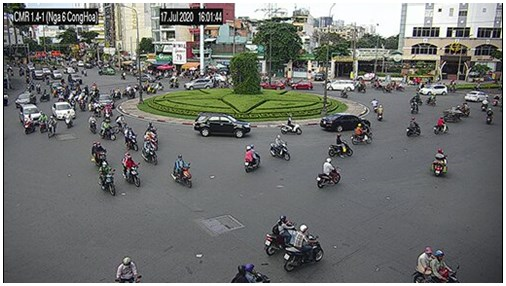xe_hoi: (194, 114, 251, 138), (319, 114, 371, 134), (19, 103, 42, 125), (52, 101, 74, 118), (325, 80, 355, 92), (417, 85, 448, 96), (183, 79, 214, 90), (16, 92, 36, 107), (465, 90, 487, 101), (99, 92, 113, 107), (291, 81, 314, 90), (68, 72, 82, 85), (138, 73, 156, 81), (32, 69, 43, 81), (52, 69, 63, 80), (41, 66, 51, 76)
xe_may: (285, 223, 323, 269), (415, 247, 460, 282), (265, 215, 297, 254), (315, 156, 343, 188), (227, 264, 268, 284), (121, 151, 142, 187), (172, 152, 192, 188), (114, 256, 140, 283), (98, 161, 116, 195), (269, 135, 290, 162), (329, 134, 353, 157), (243, 145, 262, 173), (352, 121, 372, 146), (432, 148, 448, 178), (282, 113, 303, 135), (141, 138, 158, 165), (89, 141, 107, 166), (98, 119, 115, 144), (124, 126, 139, 151), (432, 117, 450, 136), (406, 117, 421, 137), (47, 115, 58, 139), (88, 113, 100, 133), (37, 110, 47, 134), (25, 113, 34, 134), (145, 122, 156, 139), (412, 91, 423, 105), (484, 109, 493, 125), (425, 93, 436, 106), (409, 98, 419, 112), (376, 104, 385, 119), (460, 102, 470, 115), (370, 96, 378, 112), (480, 95, 489, 109), (65, 109, 72, 127), (41, 88, 50, 102), (146, 84, 157, 95), (154, 80, 164, 91), (80, 95, 86, 112), (70, 96, 77, 110), (168, 79, 178, 88), (340, 87, 348, 98), (493, 95, 499, 108), (35, 82, 42, 91)
